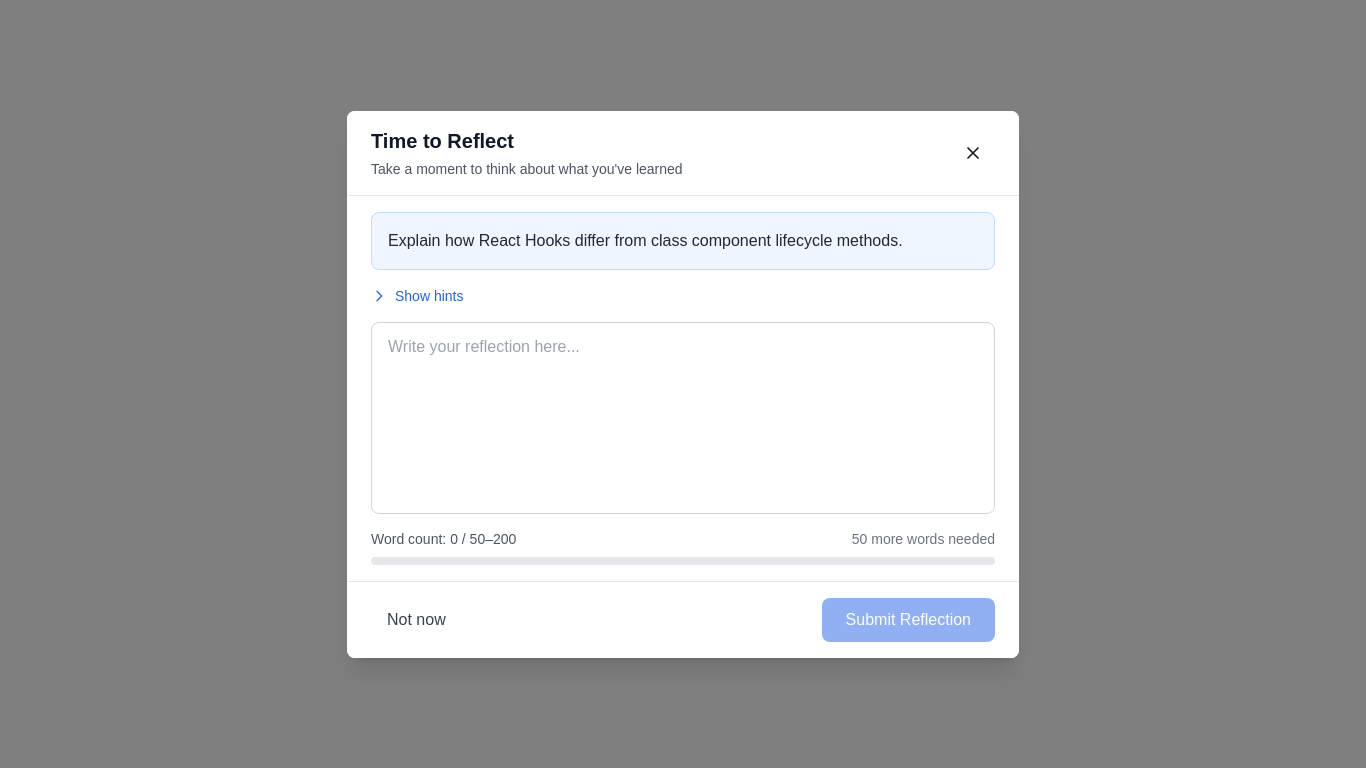
Test: ReflectionModal › shows hints in collapsible section
The image size is (1366, 768).
Note: Click to show hints - button contains "Show hints" or "Hide hints" text
Click the button "Show hints".
click(417, 296)  # box [371,286,464,306]
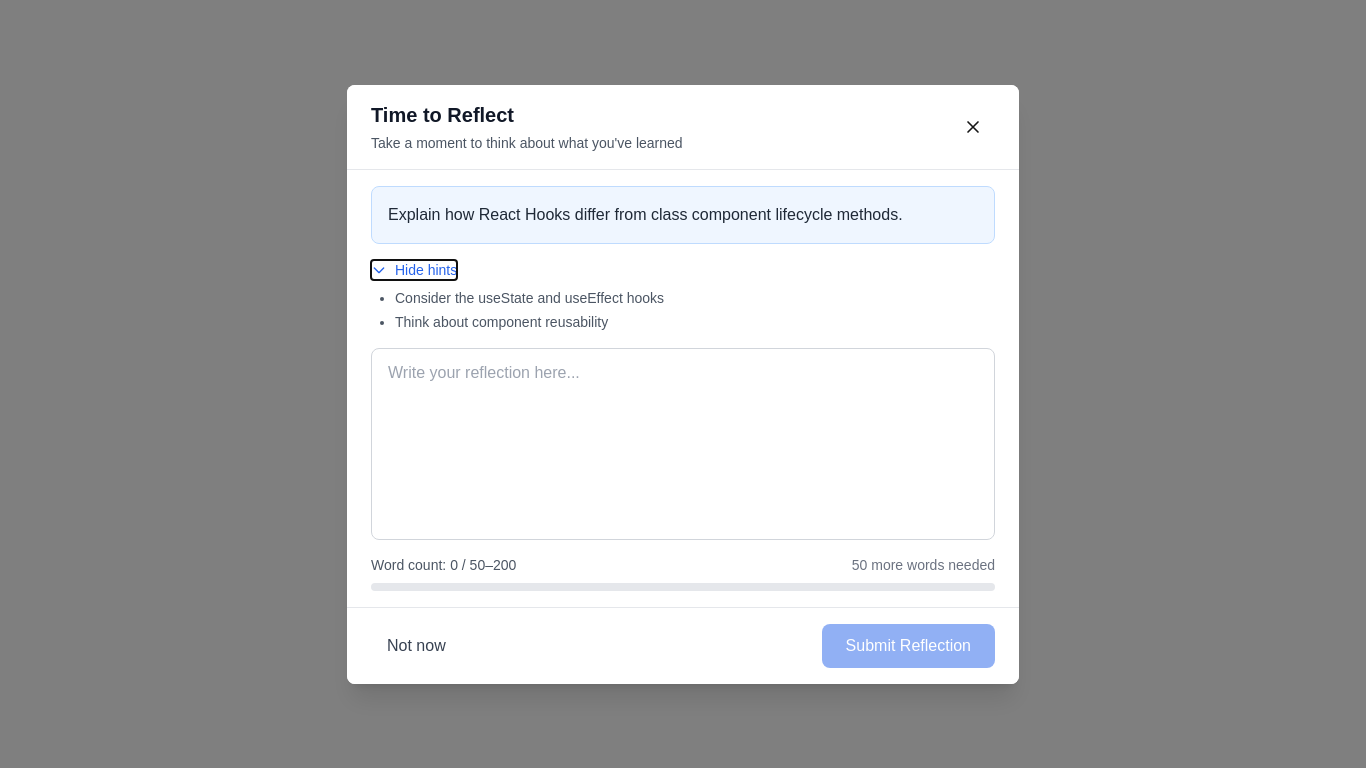
Now the list item "Consider the useState and useEffect hooks" is shown, box [395,290,664,306]
Now the list item "Think about component reusability" is shown, box [395,314,608,330]
